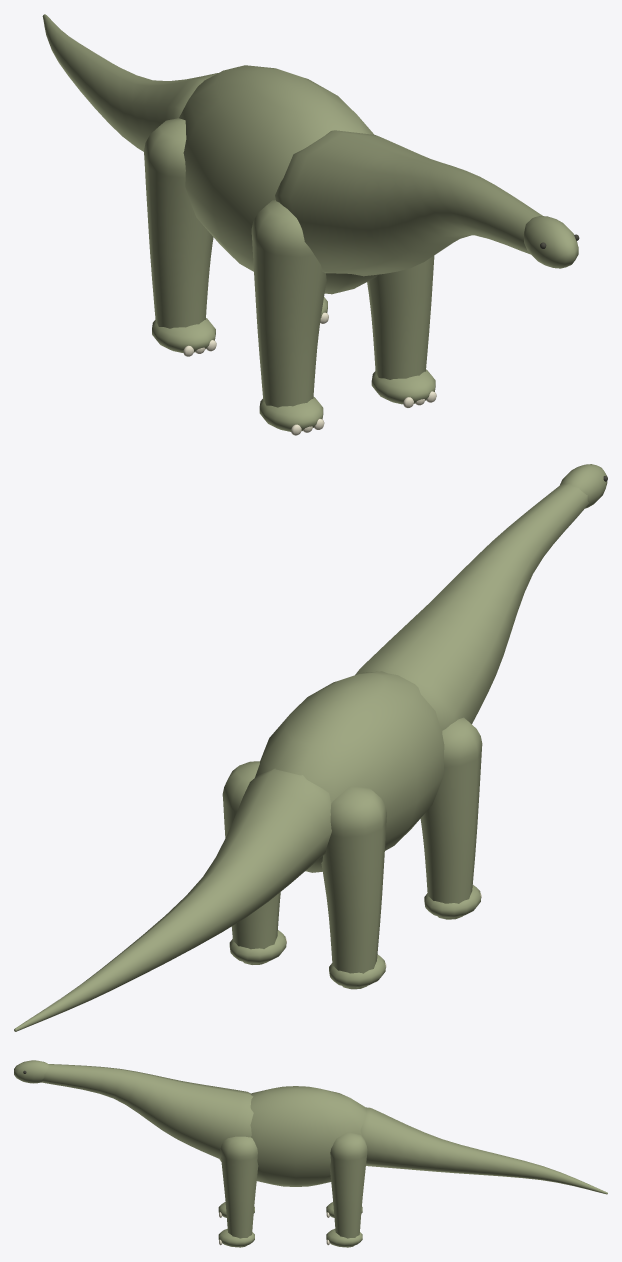
The model's file is apatosaurus.glb.
The picture shows the model from 3 angles, top to bottom: view 1: azimuth 30°, elevation 25°; view 2: azimuth 150°, elevation 25°; view 3: azimuth 270°, elevation 25°; orthographic projection. The views are drawn at different scales.
Visible parts, largest first — view 1: apatosaurus; view 2: apatosaurus; view 3: apatosaurus.
Part boxes in pixels (x1,y1,x2,y2): apatosaurus: [42, 14, 579, 435]; apatosaurus: [14, 464, 607, 1031]; apatosaurus: [14, 1060, 607, 1247].
Size of the model in its own units: 3.57 by 6.7 by 21.
